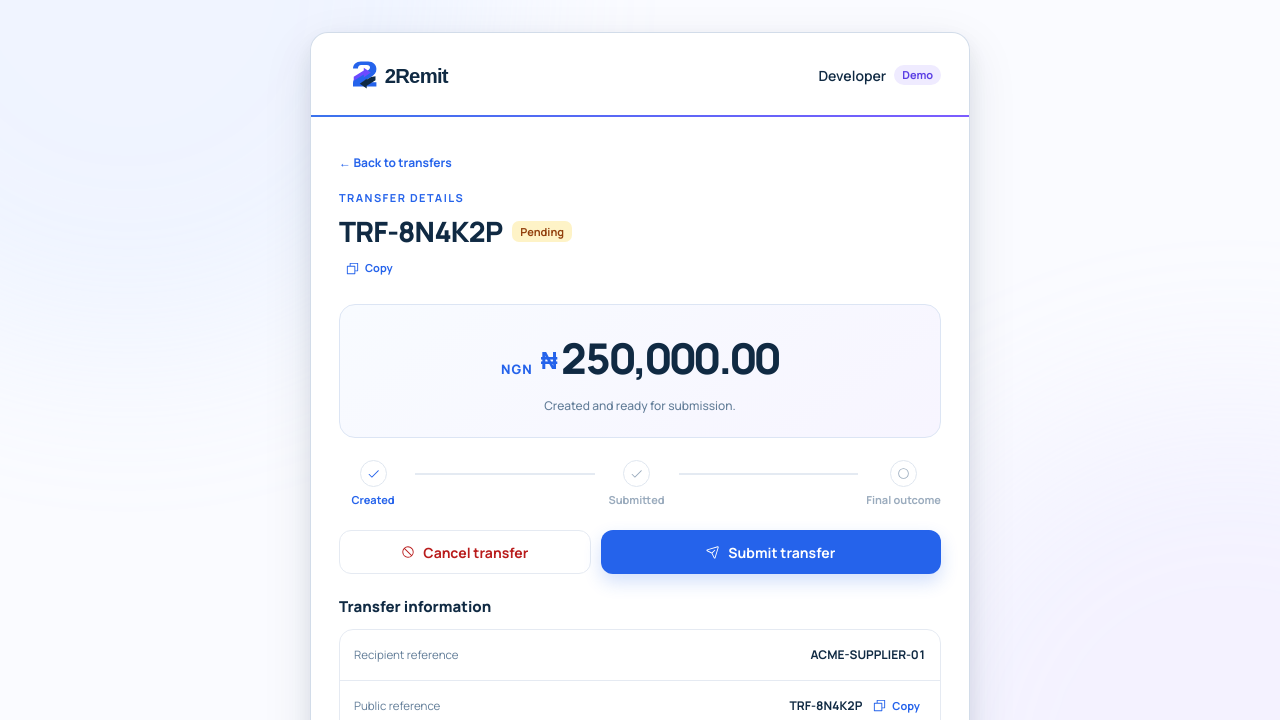
Scenario: TransferDetailScreen › copies the public reference with accessible feedback
The width and height of the screenshot is (1280, 720).
Expected: the heading "TRF-8N4K2P" is shown, [339,210,502,252]
Click the button with aria-label "Copy transfer reference" at (369, 269), box [339,256,399,281]
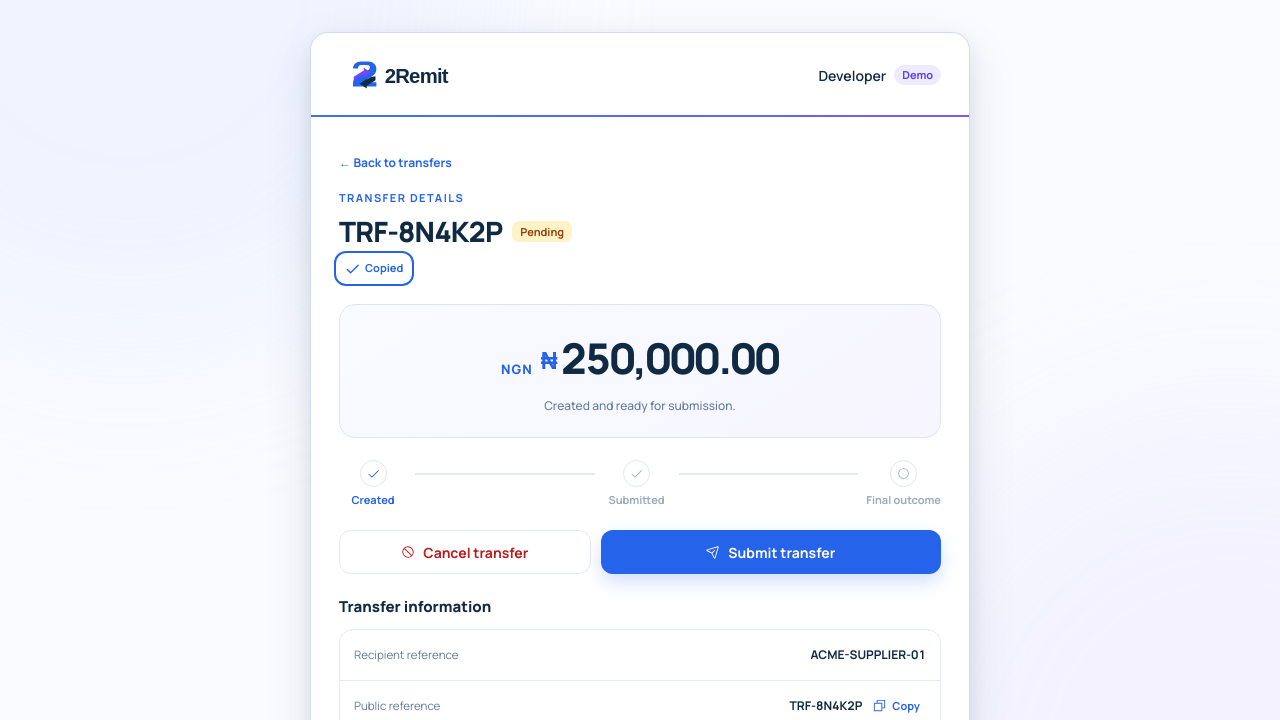
Result: the text "Copied" is shown at [365,260,403,277]
